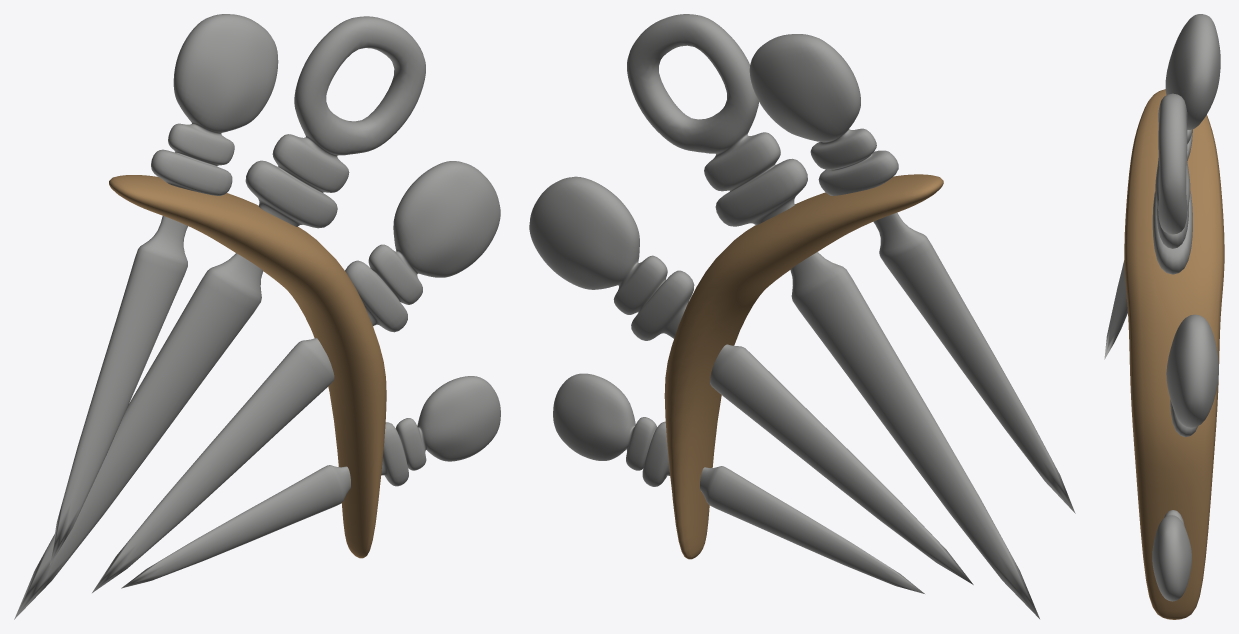
File: INJECTOR.glb
3 renders of one model, left to right at view 1: azimuth 30°, elevation 25°; view 2: azimuth 150°, elevation 25°; view 3: azimuth 270°, elevation 25°, orthographic. The views are drawn at different scales.
Parts seen in each view (by area): view 1: Cube, Cube.003, Cube.002, Cube.004, Cube.001; view 2: Cube, Cube.002, Cube.003, Cube.004, Cube.001; view 3: Cube.004, Cube, Cube.003, Cube.002, Cube.001.
Boxes of the visible parts, bbox=[...] form: Cube: bbox=[14, 16, 425, 619]; Cube.003: bbox=[49, 14, 278, 565]; Cube.002: bbox=[92, 161, 500, 592]; Cube.004: bbox=[109, 175, 386, 558]; Cube.001: bbox=[121, 376, 500, 588]; Cube: bbox=[627, 14, 1039, 618]; Cube.002: bbox=[529, 176, 973, 584]; Cube.003: bbox=[749, 34, 1075, 513]; Cube.004: bbox=[664, 174, 943, 559]; Cube.001: bbox=[553, 373, 924, 593]; Cube.004: bbox=[1124, 89, 1224, 619]; Cube: bbox=[1152, 93, 1192, 274]; Cube.003: bbox=[1104, 14, 1220, 359]; Cube.002: bbox=[1166, 314, 1218, 437]; Cube.001: bbox=[1152, 510, 1191, 601].
Size of the model in its own units: 1.67 by 1.81 by 0.3625.
